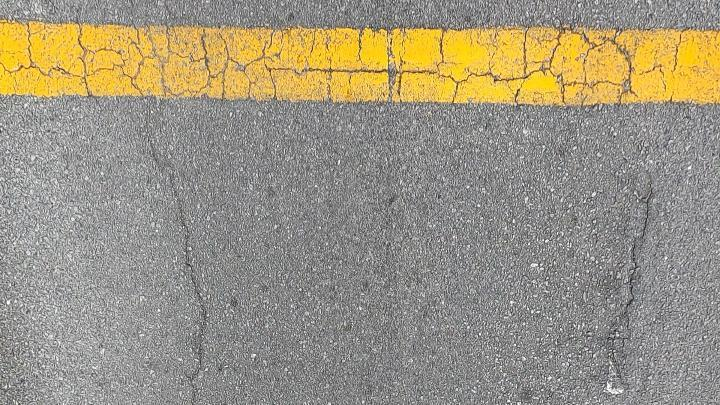Crack: (139, 148, 213, 405), (604, 156, 669, 397), (149, 148, 209, 404), (606, 160, 656, 394)
Lane: (0, 20, 720, 111), (0, 29, 719, 102)
